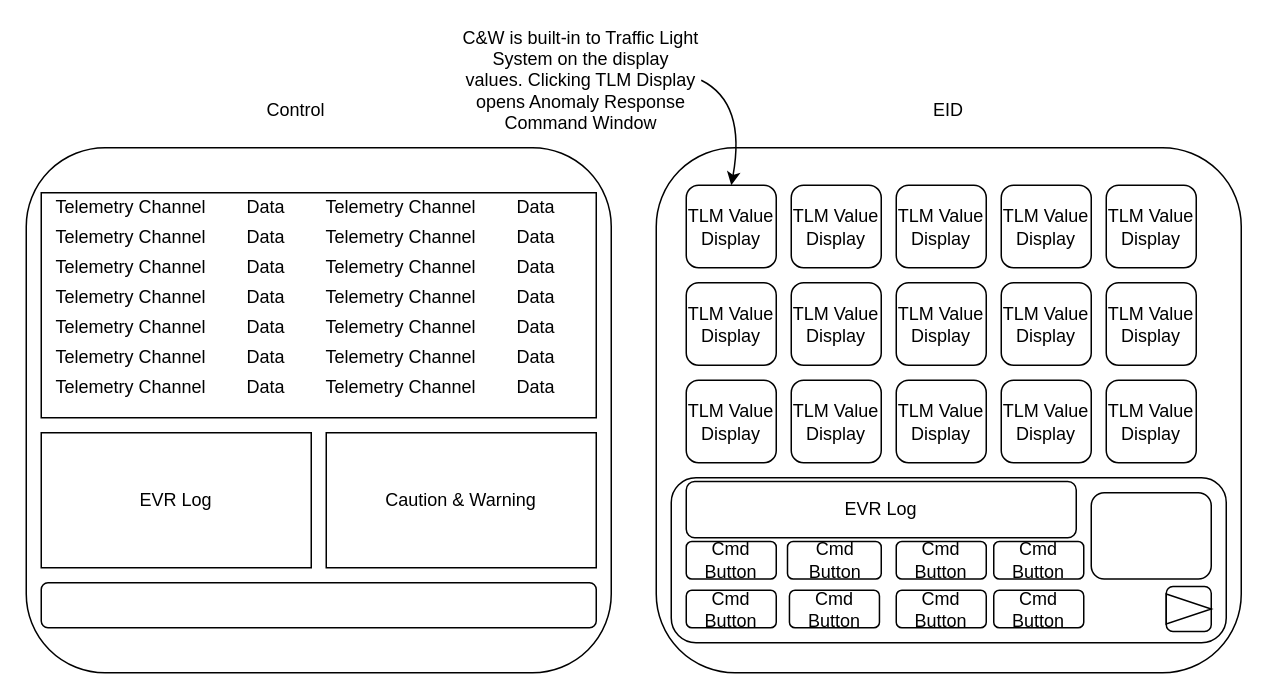
Image size: 1268x699. Some labels were removed from this diagram. The shapes that lost their labels are listed below. From the top down, each one's centre as x and y in pixels, then its label:
At pixel 1150 535: "Cmd Loaded".
At pixel 318 604: "Command Window".
